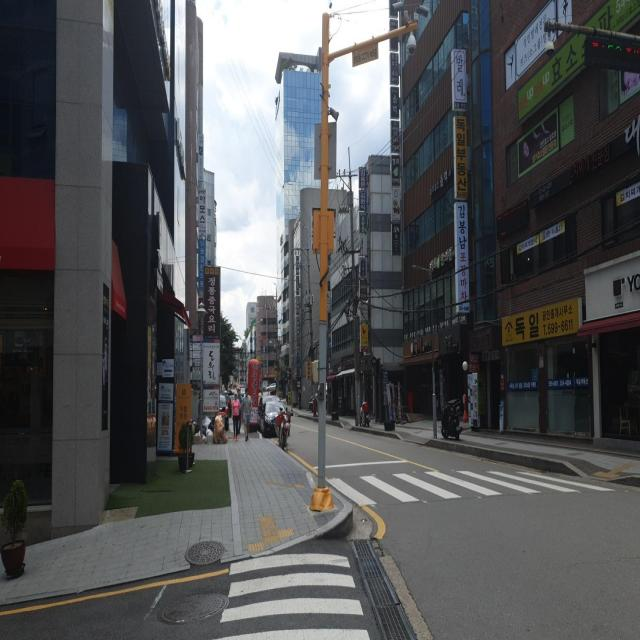횡단보도: (312, 458, 621, 506), (210, 551, 371, 640)
